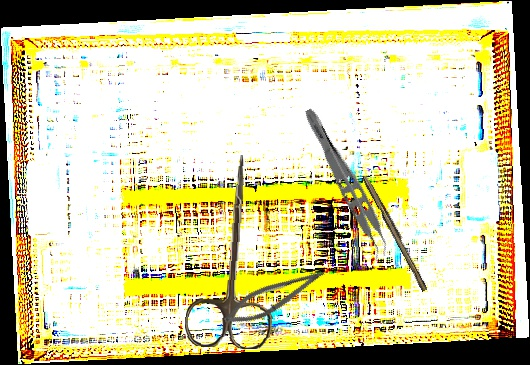Iris Scissors: (184, 152, 281, 351)
Micro Scissor: (219, 257, 329, 335)
Scalpel Handle: (359, 174, 432, 292)
Tissue Forceps: (291, 105, 398, 263)
